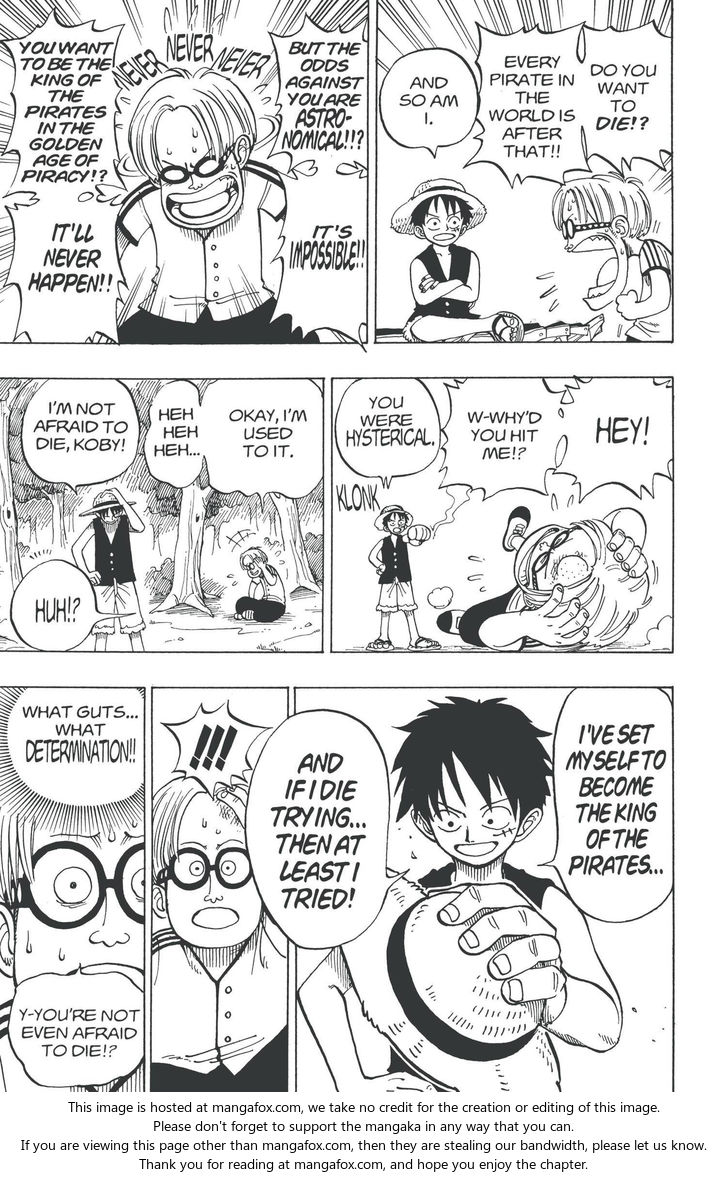bubble: (243, 709, 408, 948), (537, 687, 675, 923), (1, 6, 127, 197), (464, 22, 591, 189), (4, 186, 128, 346), (270, 169, 367, 352), (6, 687, 145, 812), (6, 964, 145, 1089), (201, 378, 324, 514), (439, 376, 566, 502), (268, 13, 368, 173), (554, 377, 674, 503), (582, 21, 672, 177), (21, 378, 141, 494), (334, 377, 441, 488), (11, 560, 135, 653), (378, 49, 478, 158), (160, 700, 270, 799), (143, 379, 204, 490)
